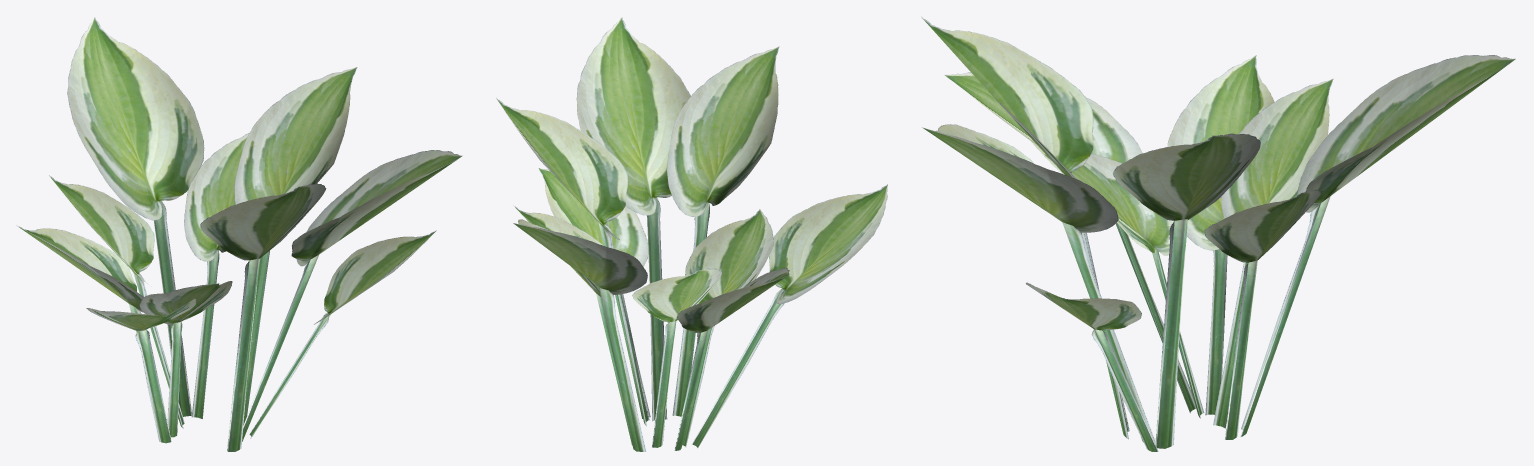
Rendered from plant_small_wg_02W.fbx.
The picture shows the model from 3 angles, left to right: view 1: azimuth 30°, elevation 25°; view 2: azimuth 150°, elevation 25°; view 3: azimuth 270°, elevation 25°; orthographic projection. The views are drawn at different scales.
Visible parts, largest first — view 1: plant_small_wg_02W; view 2: plant_small_wg_02W; view 3: plant_small_wg_02W.
Part boxes in pixels (x1,y1,x2,y2): plant_small_wg_02W: [16, 17, 462, 451]; plant_small_wg_02W: [496, 17, 887, 451]; plant_small_wg_02W: [921, 16, 1515, 451].
Size of the model in its own units: 71.03 by 63.82 by 84.71.
